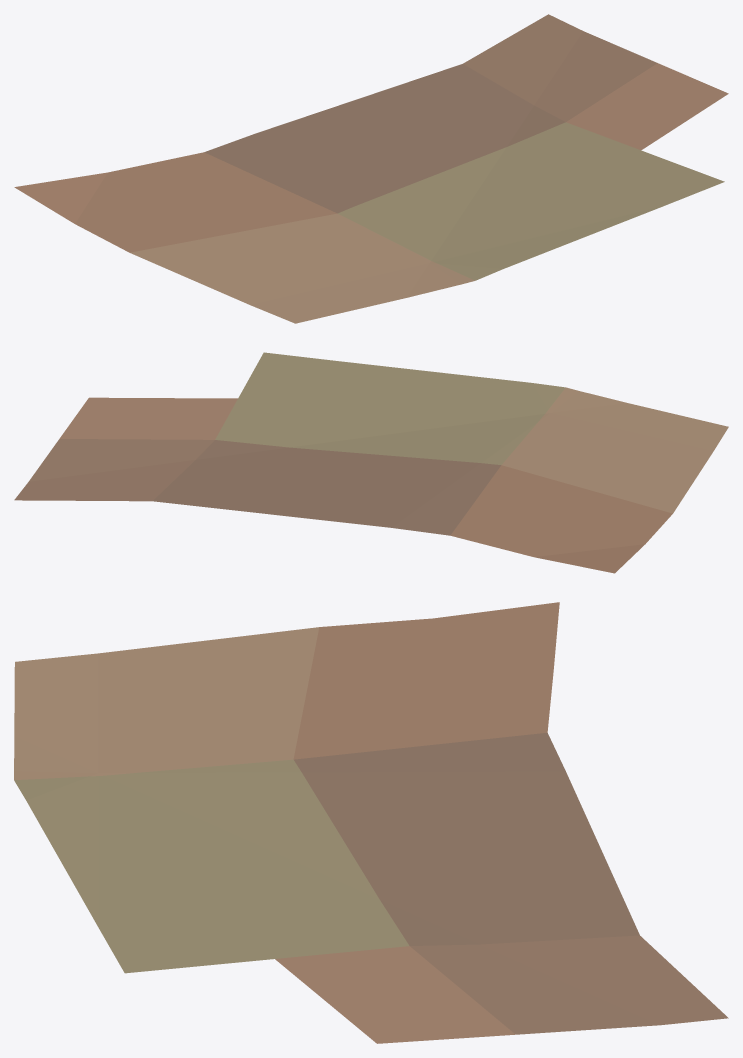
Rendered from farm_36_28_soil.glb.
3 renders of one model, top to bottom at view 1: azimuth 30°, elevation 25°; view 2: azimuth 150°, elevation 25°; view 3: azimuth 270°, elevation 25°, orthographic. The views are drawn at different scales.
Parts seen in each view (by area): view 1: geometry_0; view 2: geometry_0; view 3: geometry_0.
Boxes of the visible parts, <box> form: geometry_0: <box>14,14,728,323</box>; geometry_0: <box>14,352,728,573</box>; geometry_0: <box>14,602,728,1043</box>.
Bounding box in the file's own units: 116 × 3.38 × 82.92.
